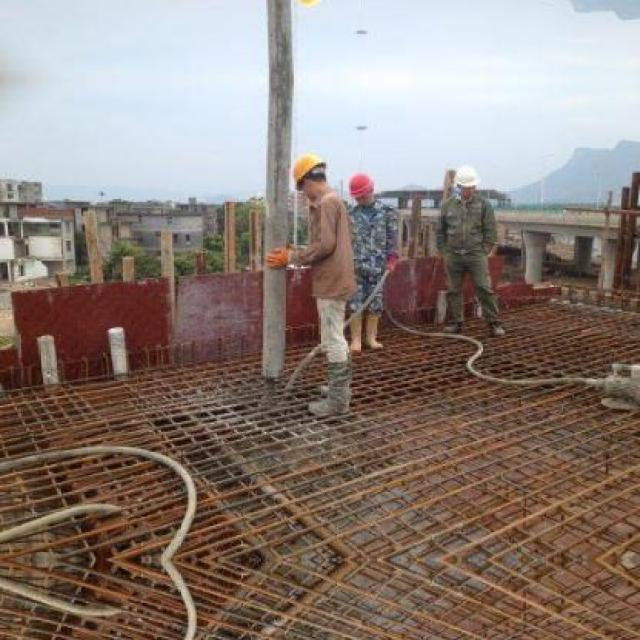helmet: (290, 145, 332, 202), (448, 162, 481, 200), (348, 167, 374, 205), (289, 0, 332, 15)
